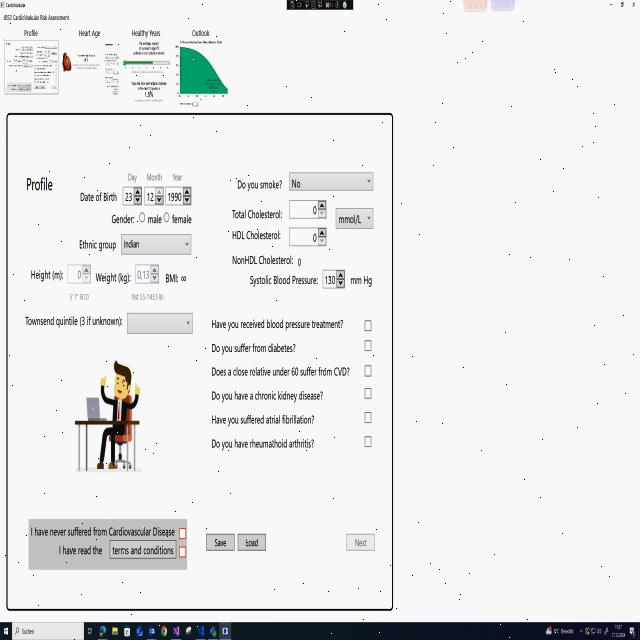button: (108, 539, 178, 562), (235, 529, 272, 557), (343, 527, 378, 554), (204, 529, 236, 557), (616, 0, 629, 16), (629, 0, 640, 16), (606, 0, 616, 15)
checkbox: (364, 363, 372, 378), (363, 435, 372, 448), (178, 526, 186, 540), (364, 319, 372, 332), (364, 387, 372, 400), (364, 411, 372, 424), (365, 339, 372, 352), (179, 545, 186, 558)
dropdownMenu: (286, 168, 376, 194), (120, 230, 194, 258), (125, 308, 196, 337), (334, 203, 375, 231), (554, 626, 584, 636)
icon: (99, 625, 106, 638), (136, 625, 143, 637), (173, 625, 180, 637), (198, 625, 205, 637), (210, 626, 217, 638), (161, 625, 167, 638), (185, 625, 192, 636), (124, 625, 130, 637), (148, 626, 155, 636), (3, 625, 9, 636), (630, 627, 636, 638), (546, 625, 552, 636), (87, 626, 93, 636), (112, 626, 118, 636), (585, 626, 590, 636), (604, 626, 609, 636), (222, 627, 228, 634), (597, 627, 602, 635), (591, 627, 595, 636)
input: (12, 621, 84, 640)
label: (210, 305, 348, 333), (27, 516, 176, 537), (209, 361, 355, 382), (208, 431, 321, 457), (207, 385, 332, 404), (22, 309, 124, 332), (206, 410, 320, 428), (208, 338, 303, 358), (226, 250, 306, 270), (245, 272, 319, 293), (226, 225, 284, 247), (234, 172, 285, 196), (229, 204, 286, 223), (26, 261, 66, 288), (22, 169, 58, 197), (93, 265, 132, 289), (54, 542, 106, 559), (349, 266, 380, 294), (77, 187, 119, 207), (3, 14, 72, 25), (76, 237, 118, 253), (126, 290, 170, 305), (165, 264, 190, 288), (76, 24, 106, 39), (105, 212, 135, 226), (128, 28, 166, 39), (172, 213, 194, 230), (67, 289, 91, 304), (145, 164, 163, 183), (191, 24, 212, 38), (126, 163, 140, 184), (170, 164, 186, 182), (22, 27, 40, 38), (147, 213, 162, 225)
menu: (0, 621, 640, 640)
radio: (162, 210, 170, 224), (138, 210, 146, 223)
upDown: (288, 195, 328, 221), (288, 224, 328, 246), (67, 260, 92, 286), (322, 266, 347, 292), (134, 262, 161, 286), (165, 186, 192, 208), (121, 185, 143, 208), (144, 185, 166, 207)
